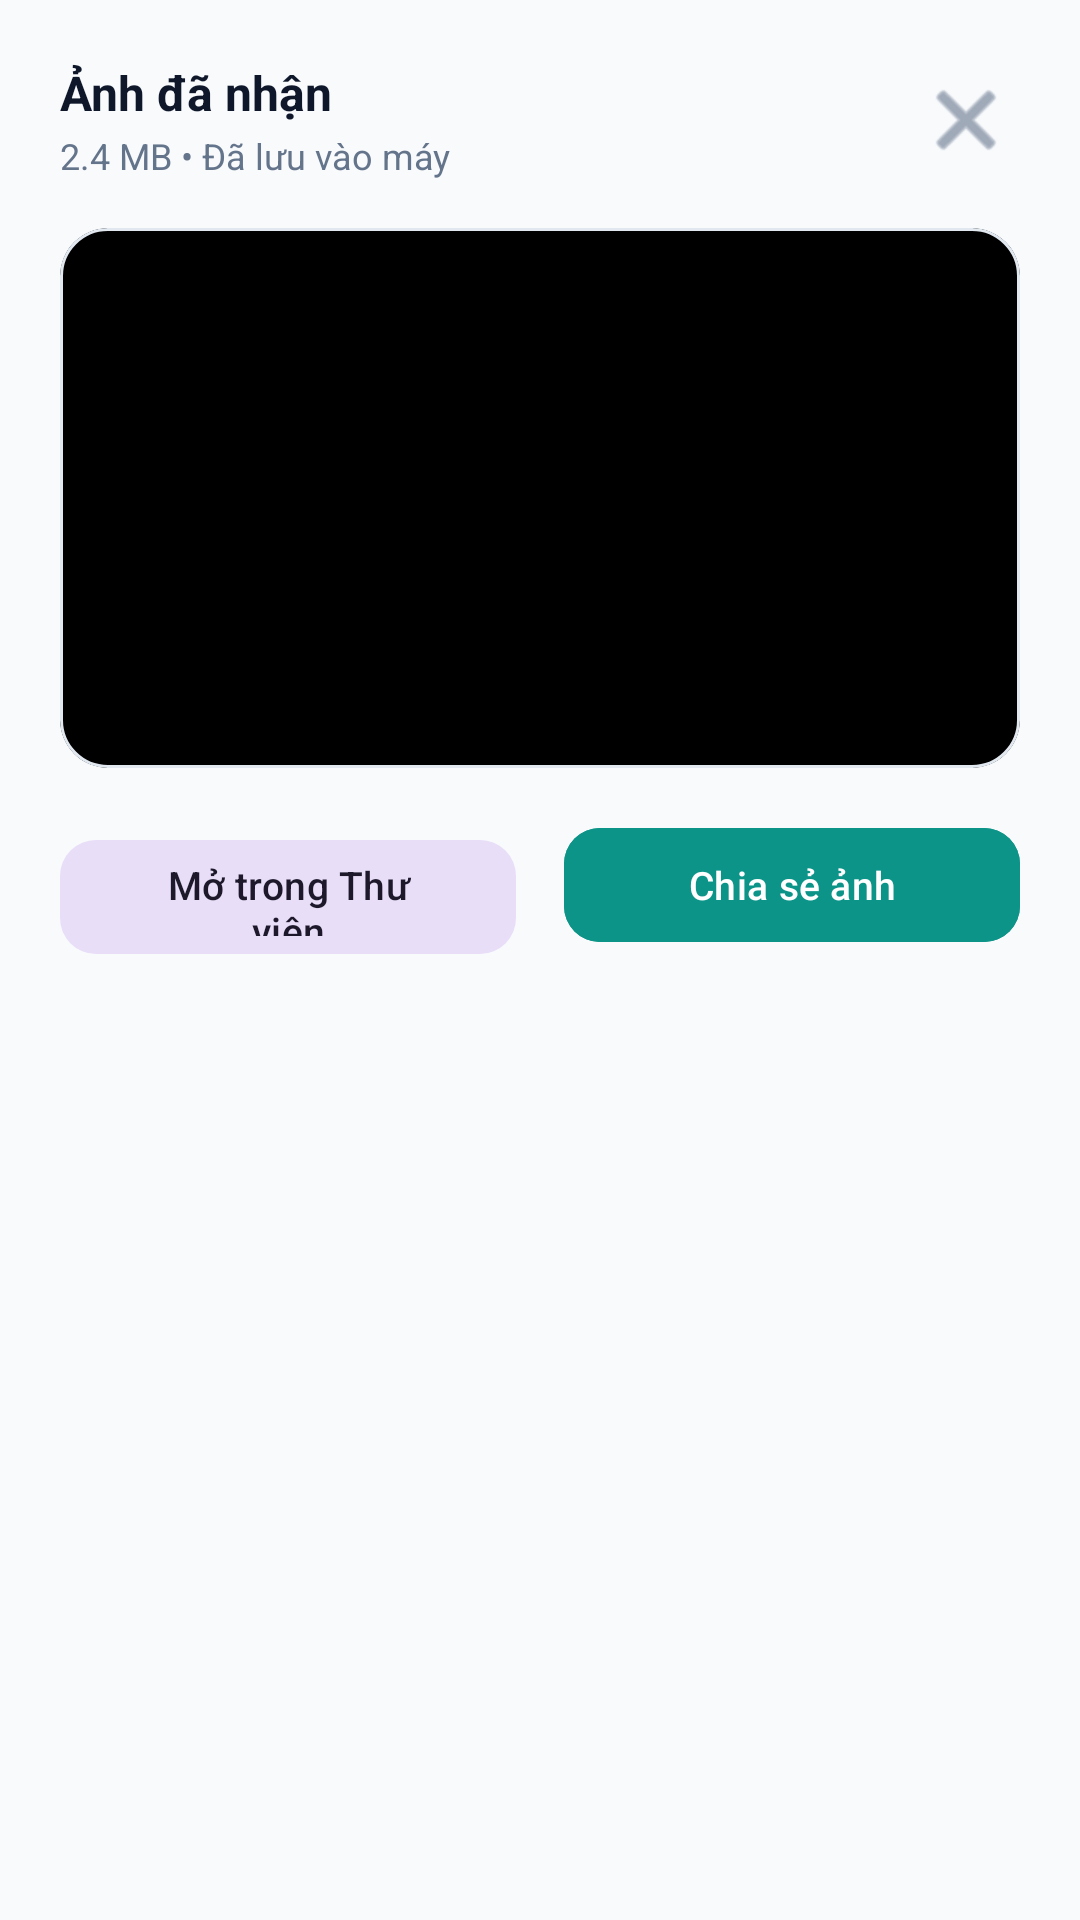

Icon click points for this 1080*1920 phone screenshot, format (x=x, y=y):
close clear cancel: (x=966, y=120)
